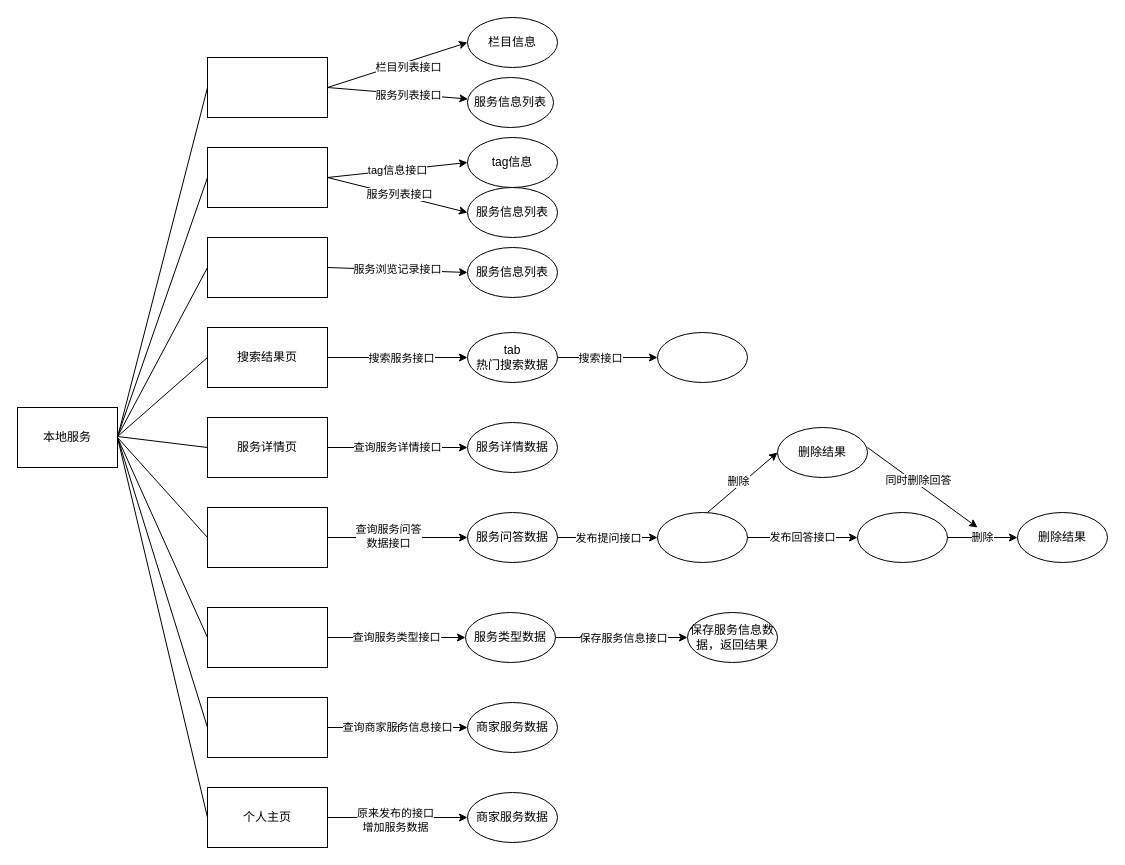
Some shapes in this 1125 by 865 pixel diagram are drawn without their labels. The shapes that lost their labels are listed below. From the top down, each one's centre as x and y in pixels, then its label:
(x=267, y=87): 栏目首页
(x=267, y=177): 二级列表
(x=267, y=267): 浏览记录页
(x=702, y=357): 搜索到的服务信息列表
(x=267, y=537): 问答列表页
(x=702, y=537): 浏览者发 布提问
(x=902, y=537): 发布者回 答提问
(x=267, y=637): 发布服务页
(x=267, y=727): 商家主页
